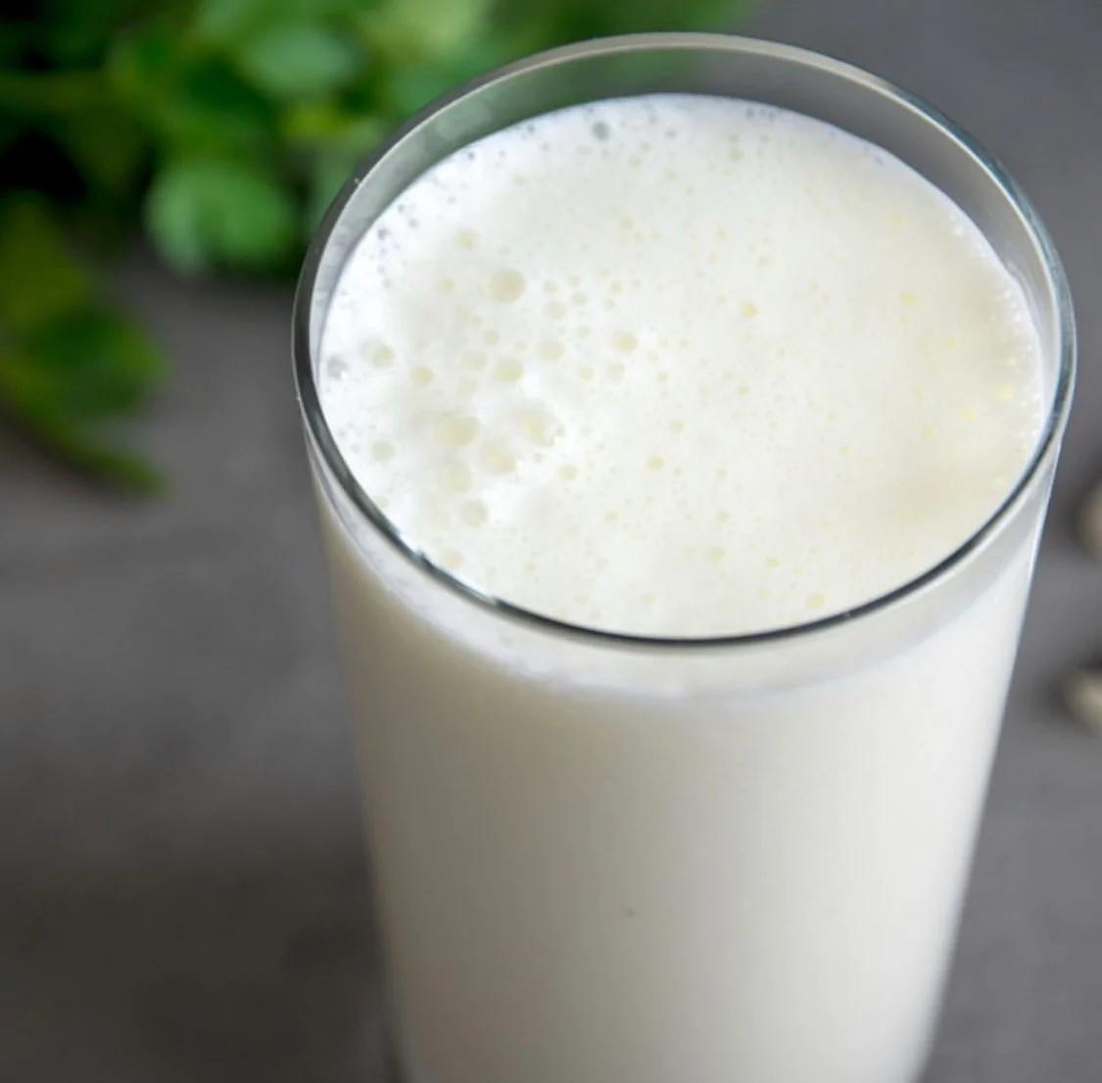Lassi: (313, 91, 1049, 1083)
